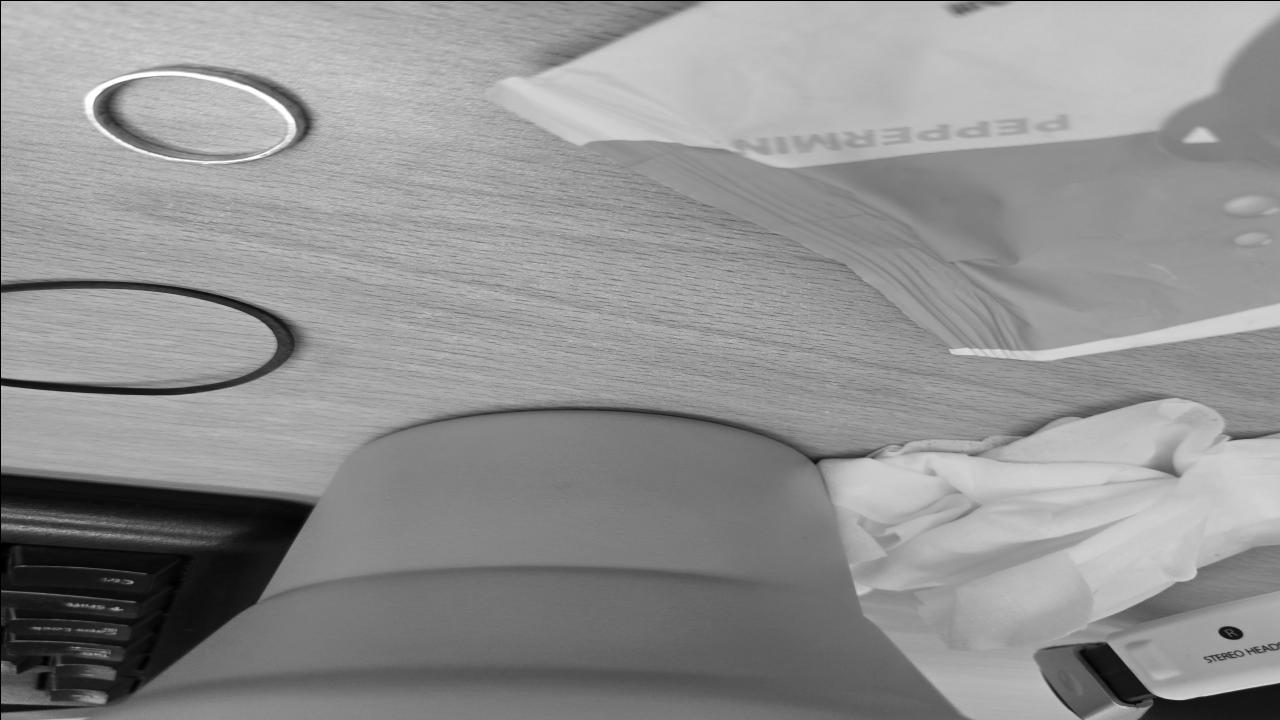ring: (82, 66, 313, 162)
